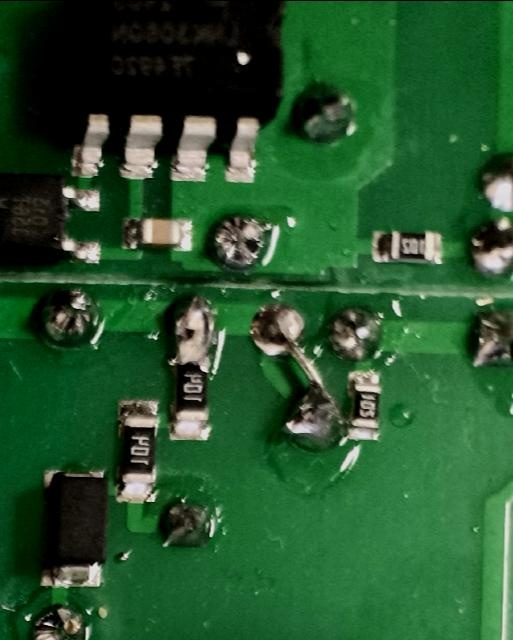chip-capacitor: (120, 213, 196, 251)
chip-resistor: (113, 396, 161, 504), (169, 348, 217, 444), (347, 367, 385, 445), (368, 228, 447, 264)
diode: (40, 465, 109, 591)
ic: (65, 0, 288, 182), (0, 178, 104, 262)
